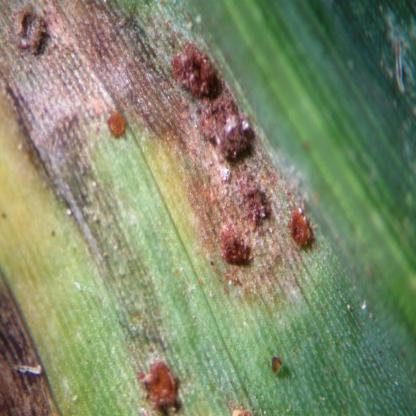corn rust leaf: (41, 1, 401, 415)
